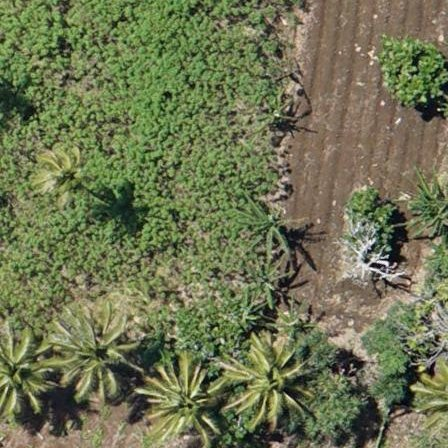palm_tree: (56, 312, 128, 388), (147, 359, 219, 435), (234, 338, 303, 411), (1, 326, 47, 412), (33, 144, 87, 202)
